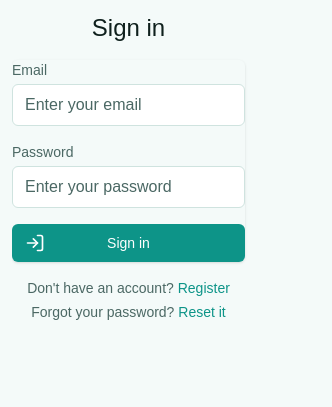
Test case: LoginForm › shows an error message when login fails
Type "alice@example.com" into the field labelled "Email".
click(128, 105); type("alice@example.com")  # box [12, 84, 245, 126]
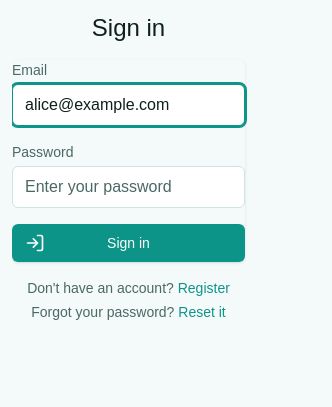
Type "wrong" into the password field labelled "Password".
click(128, 187); type("wrong")  # box [12, 166, 245, 208]
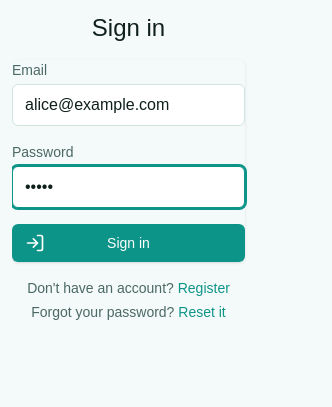
Click the button "Sign in".
click(128, 243)  # box [12, 224, 245, 262]
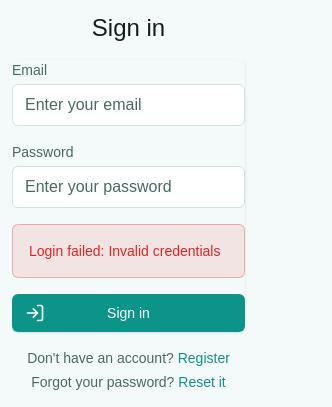
Check: the text "Login failed: Invalid credentials" is shown, box [29, 241, 228, 261]
